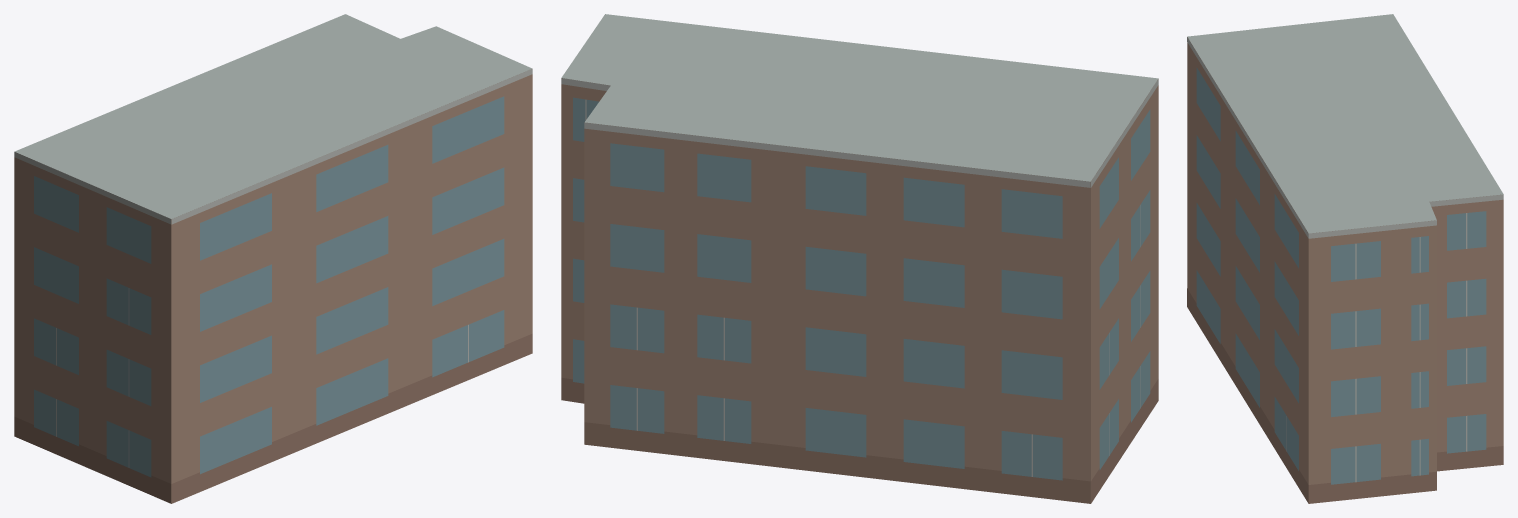
The model's file is survey-upis-32969598.glb.
3 renders of one model, left to right at view 1: azimuth 30°, elevation 25°; view 2: azimuth 150°, elevation 25°; view 3: azimuth 270°, elevation 25°, orthographic. The views are drawn at different scales.
Parts seen in each view (by area): view 1: survey-upis-32969598.tmp; view 2: survey-upis-32969598.tmp; view 3: survey-upis-32969598.tmp.
Boxes of the visible parts, x1,y1,x2,y2 form: survey-upis-32969598.tmp: (14,14,532,503); survey-upis-32969598.tmp: (561,14,1158,503); survey-upis-32969598.tmp: (1187,14,1503,503).
Bounding box in the file's own units: 21.9 × 12.57 × 13.35.
